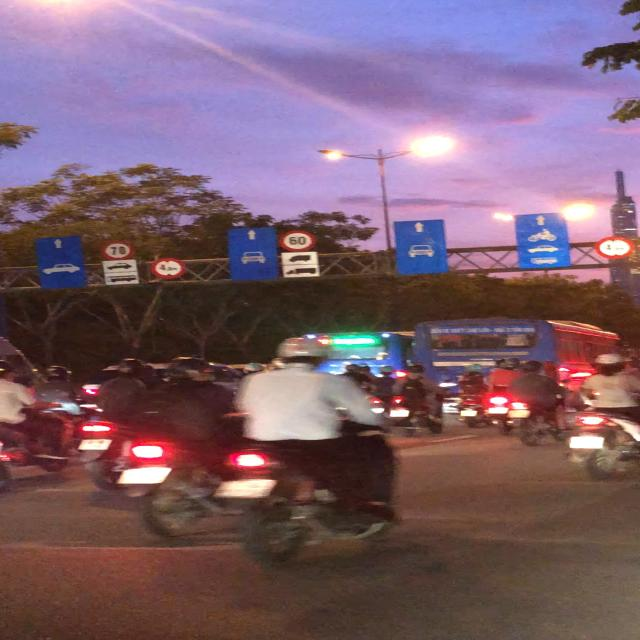Bien bao han che chieu cao: (588, 234, 634, 258), (151, 256, 190, 278)
Bien bao toc do toi da cho phep: (276, 227, 318, 251), (100, 238, 136, 261)
